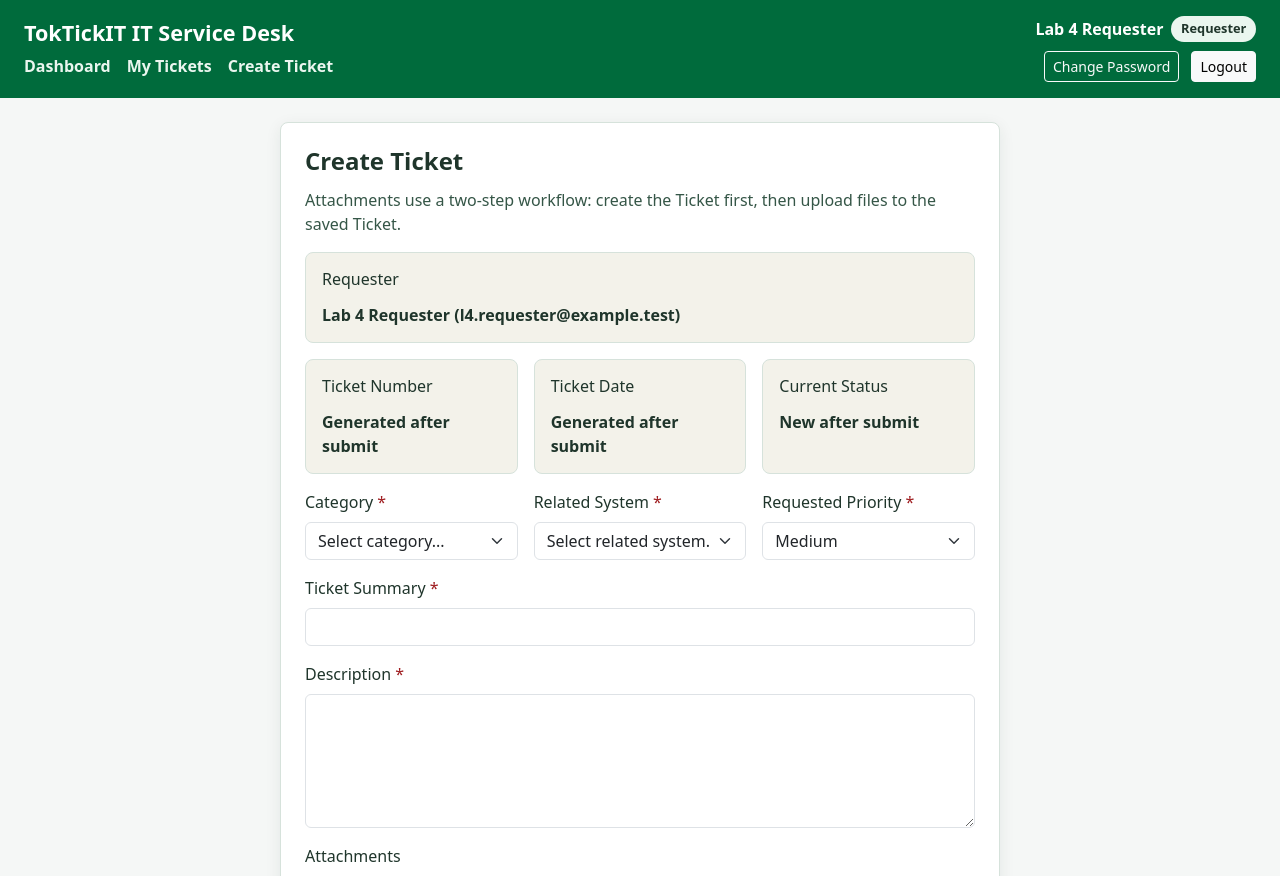
Lab 4 Actions Taken Ticket Detail UI › UI-01 renders Requester Actions as read-only on an owned Ticket
The image size is (1280, 876).
Click the link "My Tickets" at [169, 66], box [127,54,212,78]
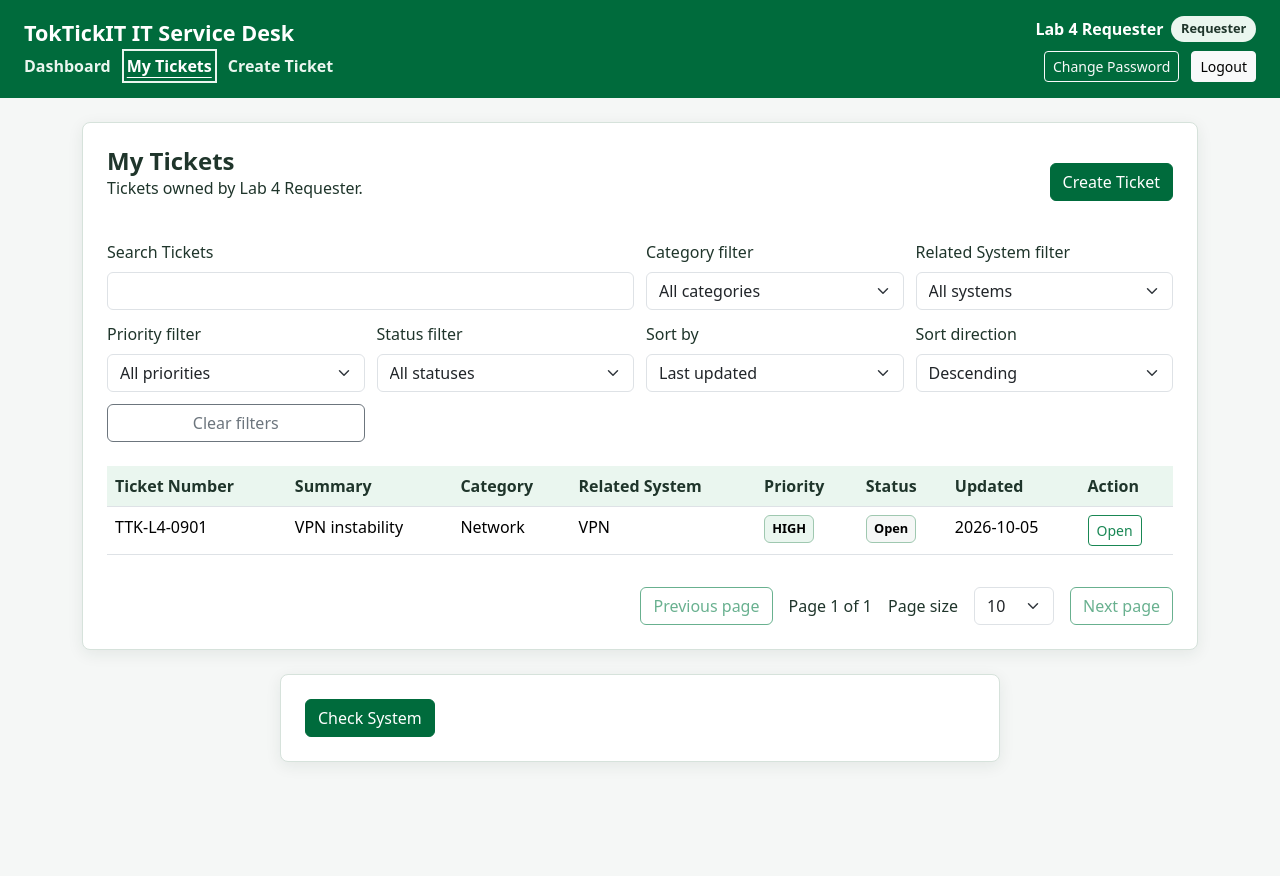
Click the button "Open" at [1115, 530], box [1088,515,1142,546]
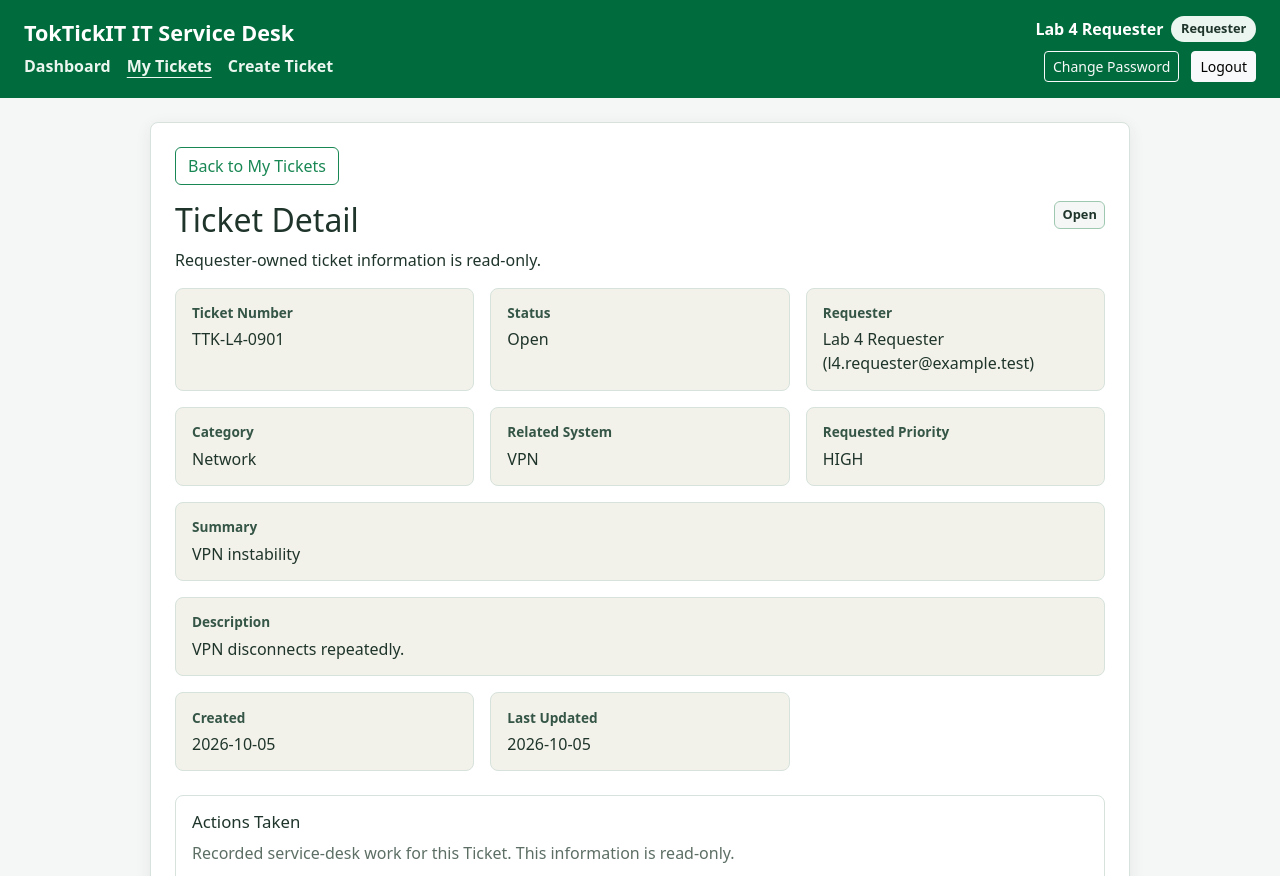
Result: the text "Recorded service-desk work for this Ticket. This information is read-only." is shown at [192,841,735,865]
